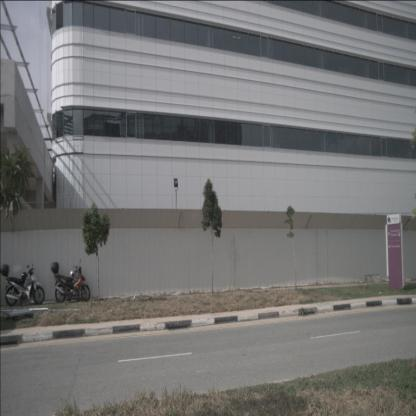vehicle-motorcycle: (0, 263, 45, 306), (51, 259, 90, 303)
